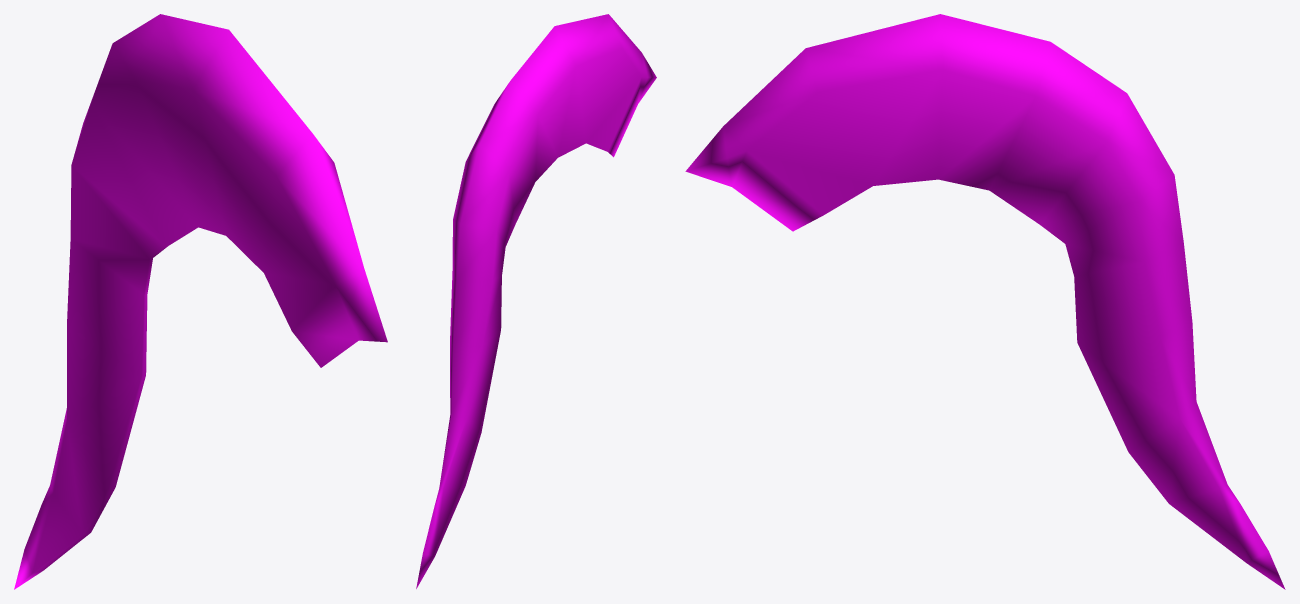
Rendered from hele_crest_pilos_small_hair_b.glb.
The picture shows the model from 3 angles, left to right: view 1: azimuth 30°, elevation 25°; view 2: azimuth 150°, elevation 25°; view 3: azimuth 270°, elevation 25°; orthographic projection. The views are drawn at different scales.
Parts seen in each view (by area): view 1: hele_helmet_j-Geometry_020-mesh; view 2: hele_helmet_j-Geometry_020-mesh; view 3: hele_helmet_j-Geometry_020-mesh.
Part boxes in pixels (left/top/right/bottom): hele_helmet_j-Geometry_020-mesh: left=14, top=14, right=387, bottom=589; hele_helmet_j-Geometry_020-mesh: left=416, top=14, right=656, bottom=588; hele_helmet_j-Geometry_020-mesh: left=685, top=14, right=1285, bottom=589.
Size of the model in its own units: 0.0877 by 0.8676 by 0.8194.
